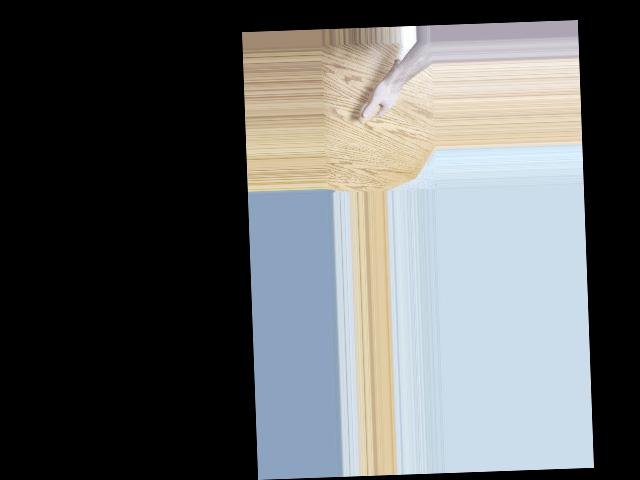sweet_potato: (356, 59, 402, 125)
